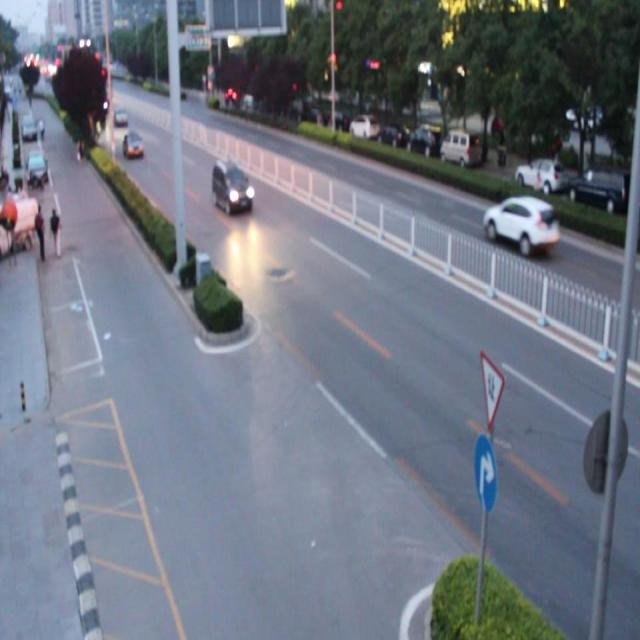car: (481, 196, 556, 257), (210, 159, 253, 213), (122, 132, 142, 156)
